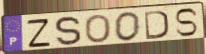D: (143, 9, 170, 41)
O: (113, 11, 142, 43), (83, 13, 112, 44)
S: (54, 15, 84, 47), (174, 7, 200, 38)
Z: (26, 17, 53, 49)
